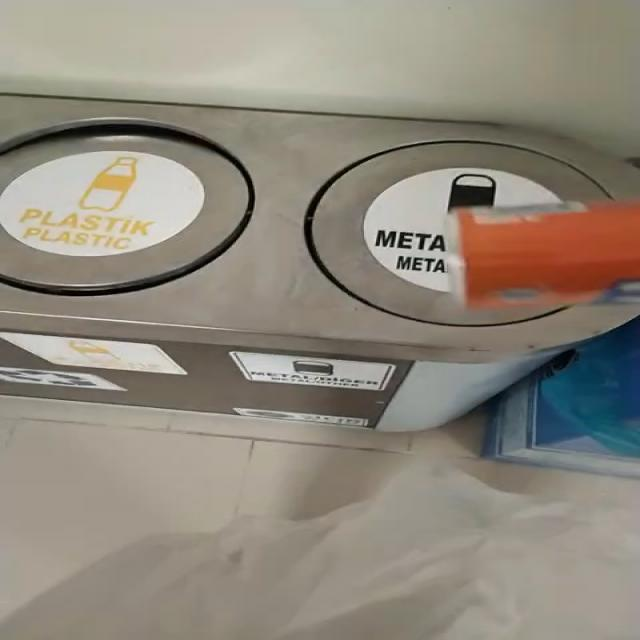bin: (0, 95, 640, 432)
metal: (455, 203, 640, 308)
